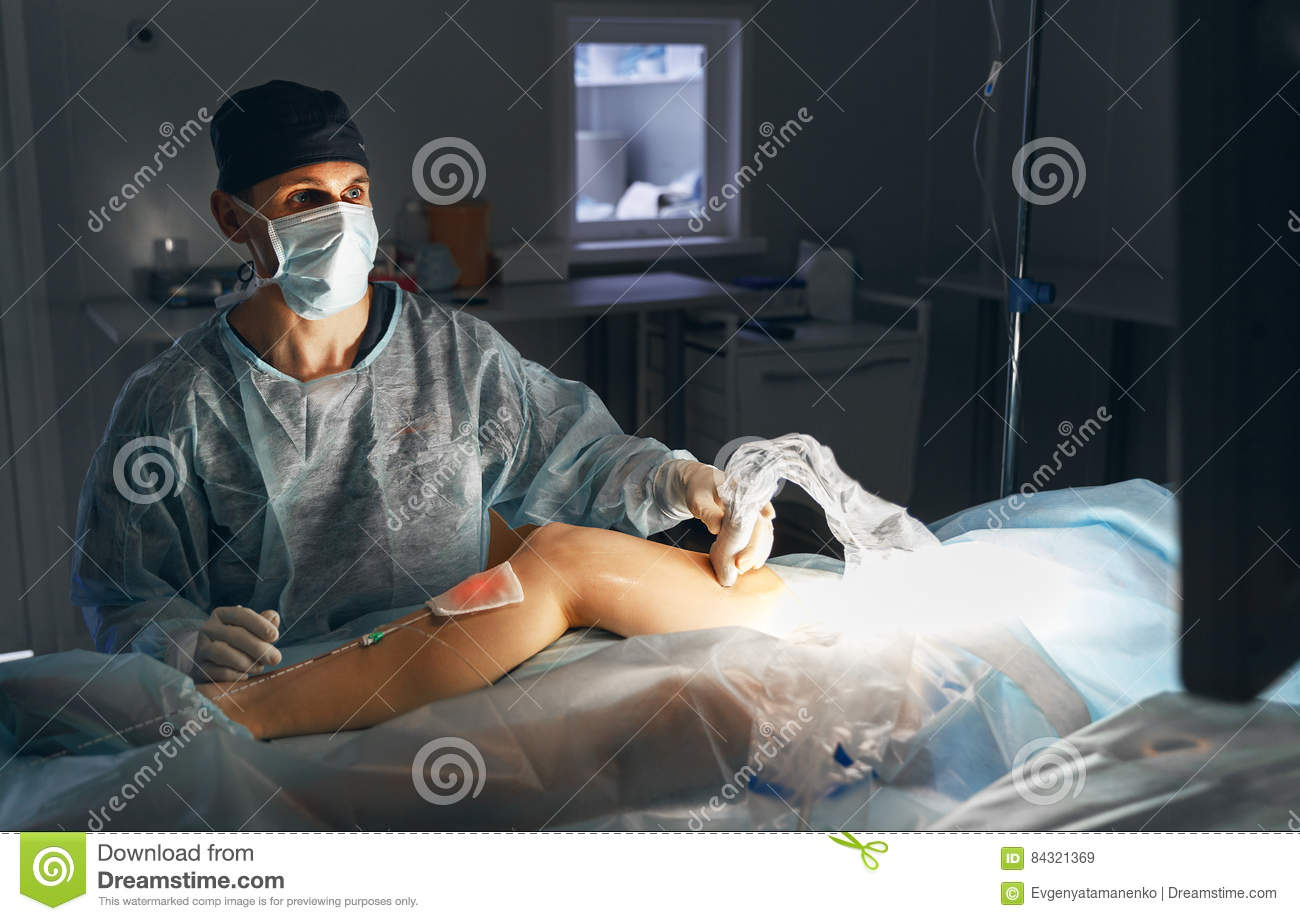mask: (270, 203, 389, 328)
